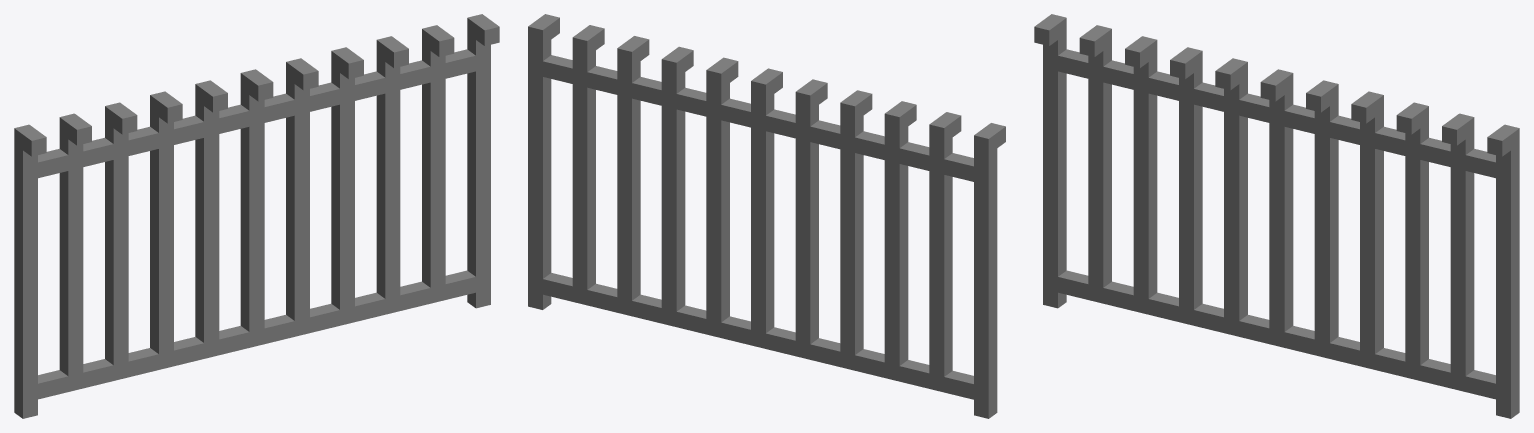
File: obj_fence1.obj
3 renders of one model, left to right at view 1: azimuth 30°, elevation 25°; view 2: azimuth 150°, elevation 25°; view 3: azimuth 330°, elevation 25°, orthographic.
Size of the model in its own units: 3.1 by 1.8 by 0.2.
Materials: 1 (1 with a texture image).
